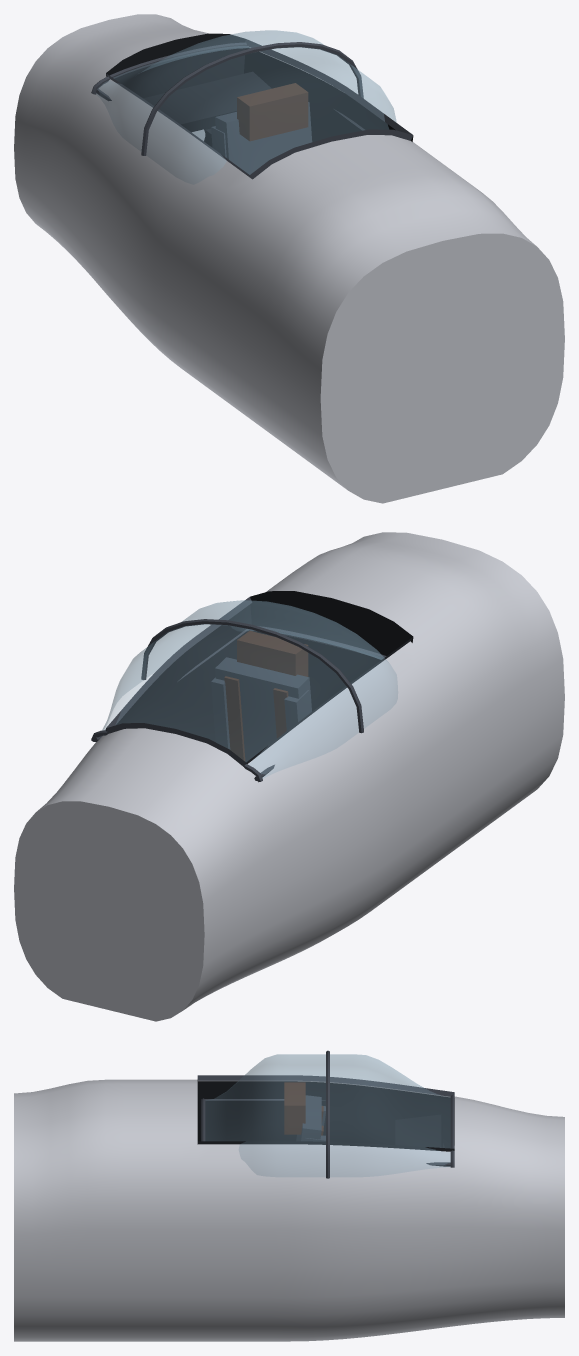
File: cockpit_jet.glb
The picture shows the model from 3 angles, top to bottom: view 1: azimuth 30°, elevation 25°; view 2: azimuth 150°, elevation 25°; view 3: azimuth 270°, elevation 25°; orthographic projection. The views are drawn at different scales.
Parts seen in each view (by area): view 1: cockpit_jet, cockpit_jet_Glas; view 2: cockpit_jet, cockpit_jet_Glas; view 3: cockpit_jet, cockpit_jet_Glas.
Boxes of the visible parts, x1,y1,x2,y2 form: cockpit_jet: (14, 14, 564, 503); cockpit_jet_Glas: (91, 30, 396, 184); cockpit_jet: (14, 532, 564, 1021); cockpit_jet_Glas: (91, 600, 397, 782); cockpit_jet: (14, 1075, 564, 1341); cockpit_jet_Glas: (201, 1050, 454, 1178).
Size of the model in its own units: 1.1 by 1.3 by 2.6.
